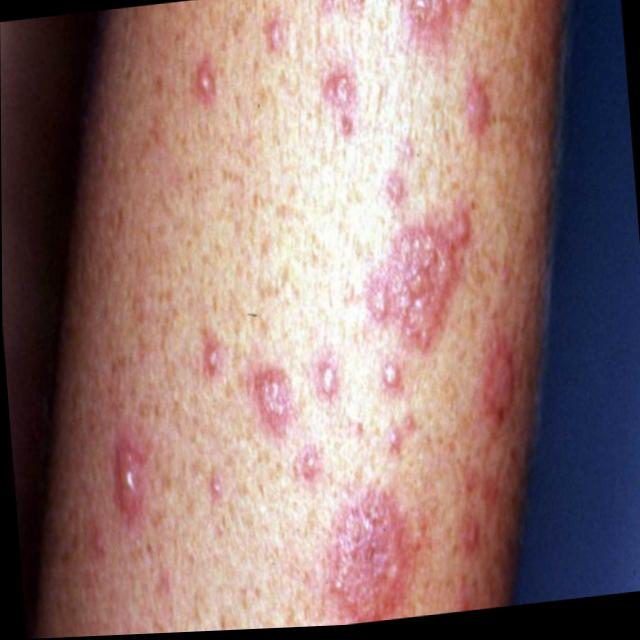Erythema multiforme -EM-: (374, 153, 511, 356), (312, 457, 415, 629), (244, 296, 311, 446), (103, 402, 182, 516)
